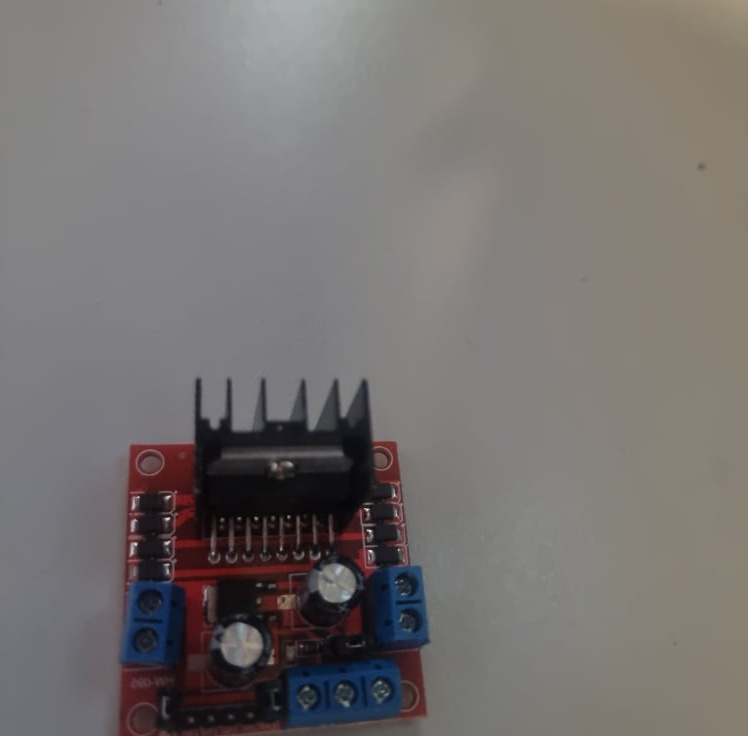MOTOR: (116, 375, 430, 736)
